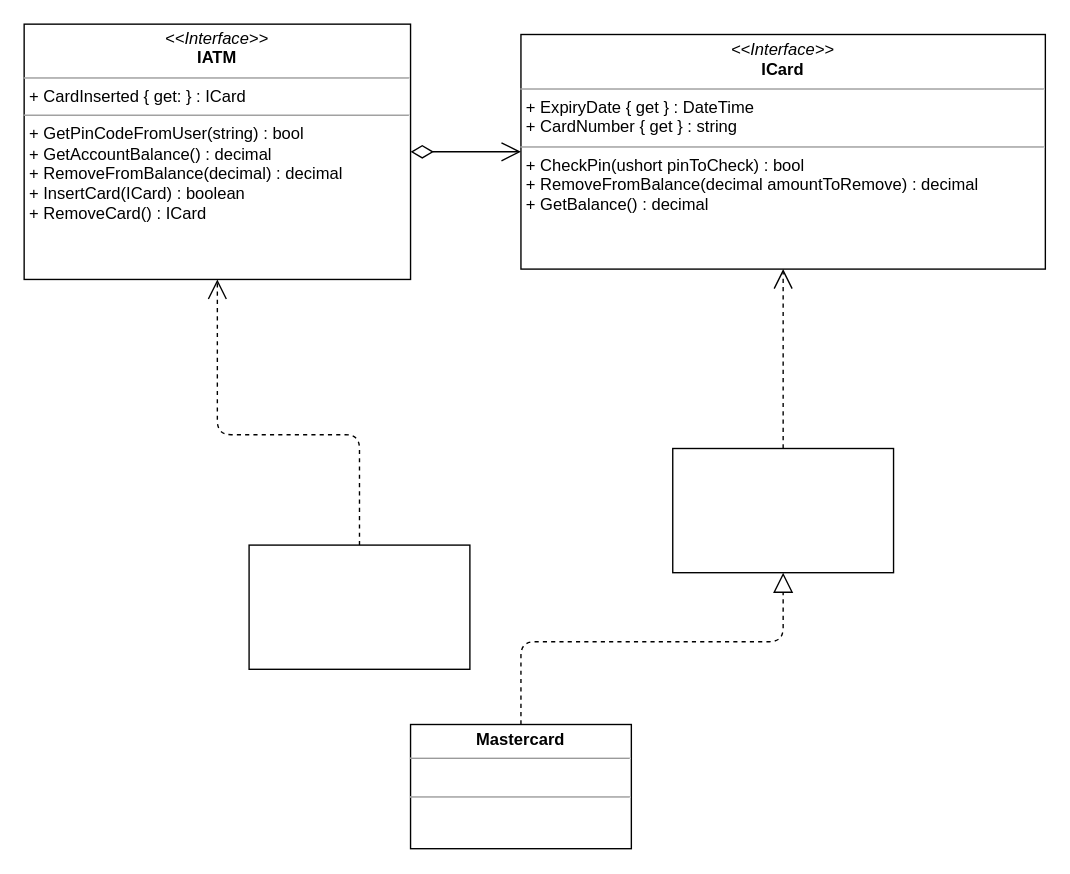
The diagram is 1070 pixels wide and 874 high, and some of its shapes have lost their labels. The shapes that lost their labels are listed below. From the top down, each one's centre as x and y in pixels, then its label:
At (x=782, y=510): "Card".
At (x=359, y=606): "ATM".
